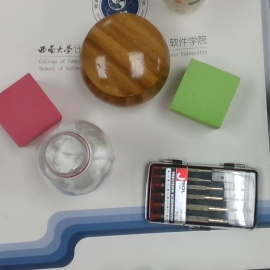bottle: (37, 119, 115, 196)
chess: (79, 12, 170, 105)
